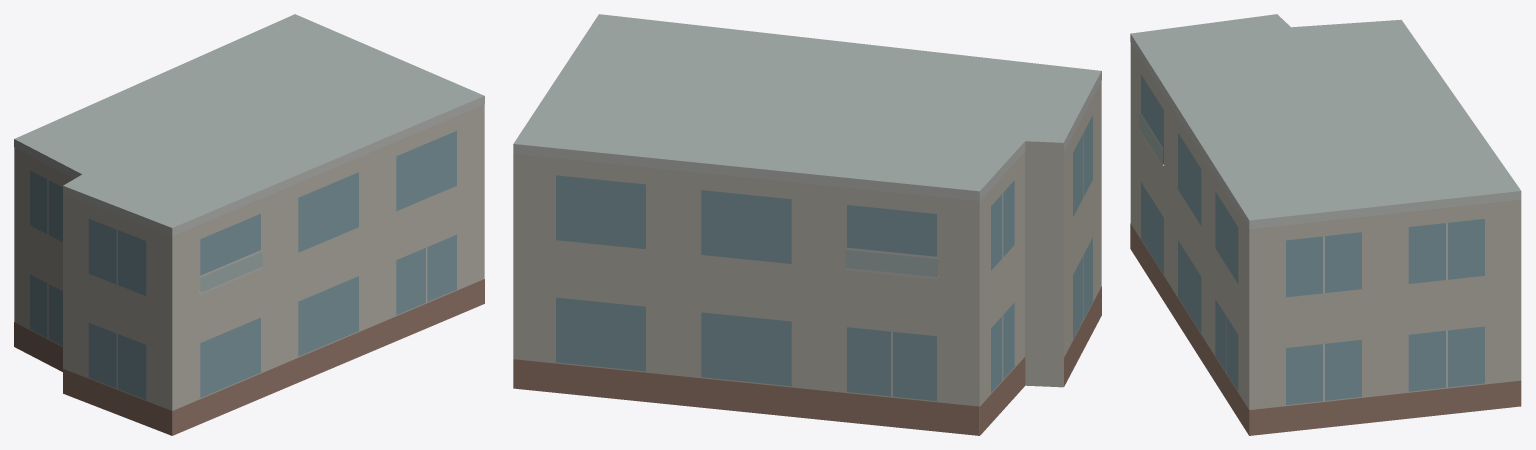
File: survey-upis-32884914.glb
3 views of the same model, side by side, from view 1: azimuth 30°, elevation 25°; view 2: azimuth 150°, elevation 25°; view 3: azimuth 270°, elevation 25° (orthographic). The views are drawn at different scales.
Parts seen in each view (by area): view 1: survey-upis-32884914.tmp; view 2: survey-upis-32884914.tmp; view 3: survey-upis-32884914.tmp.
Part boxes in pixels (x1=…): survey-upis-32884914.tmp: x1=14, y1=14, x2=484, y2=435; survey-upis-32884914.tmp: x1=513, y1=14, x2=1101, y2=435; survey-upis-32884914.tmp: x1=1130, y1=14, x2=1521, y2=435.
Size of the model in its own units: 12.55 by 6.1 by 10.05.
